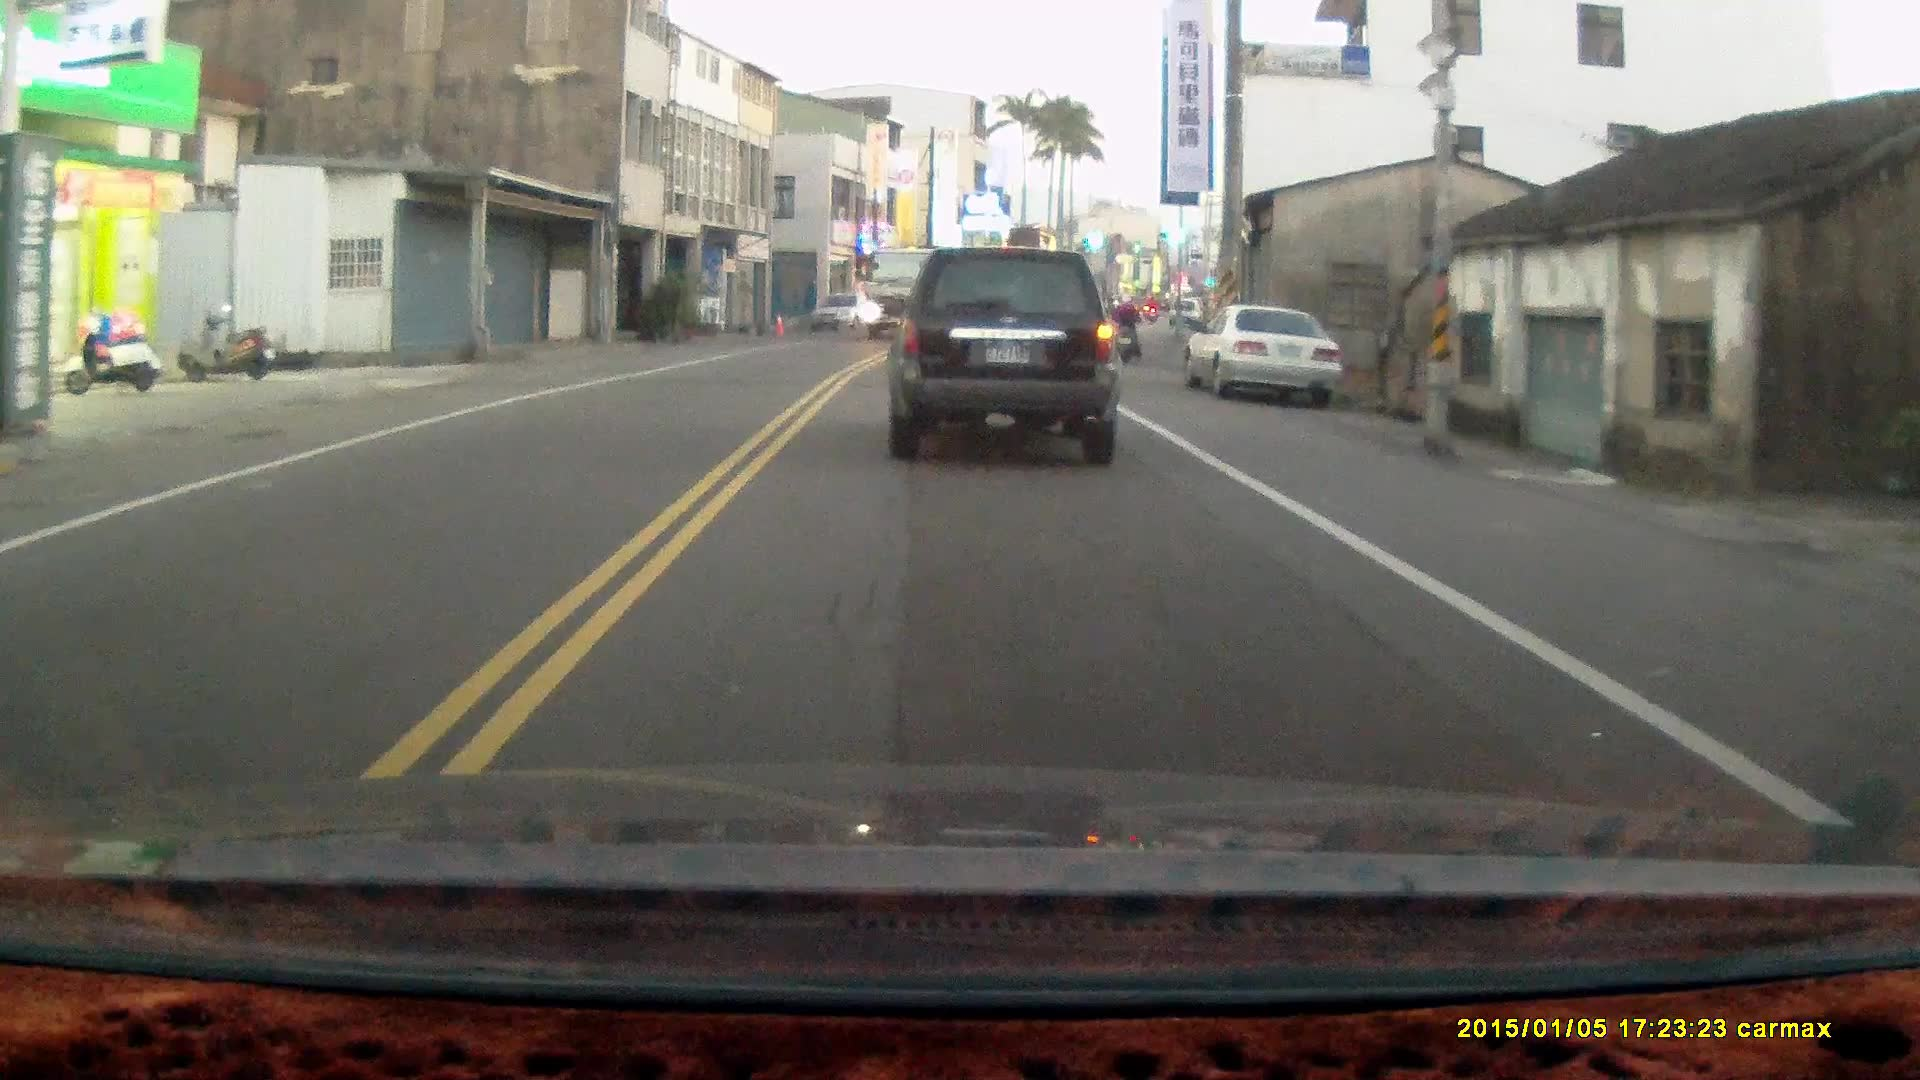rider: (1110, 291, 1142, 364)
vehicle: (886, 249, 1126, 471), (1185, 308, 1344, 420), (810, 291, 878, 336)
